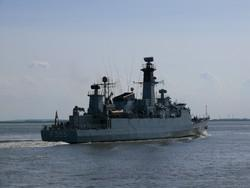warship: (42, 51, 213, 144)
